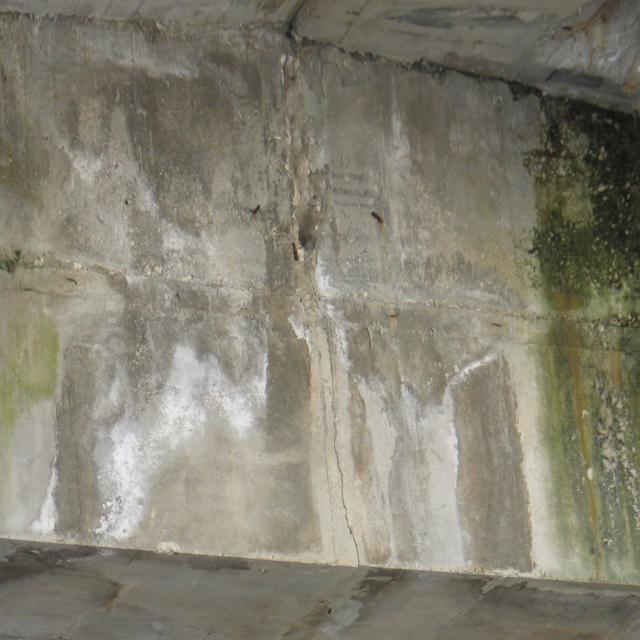corrosion: (545, 0, 638, 98), (368, 204, 386, 229), (289, 236, 303, 267), (385, 310, 403, 330), (65, 275, 82, 288), (250, 202, 260, 218), (175, 290, 182, 304), (492, 321, 502, 329)
